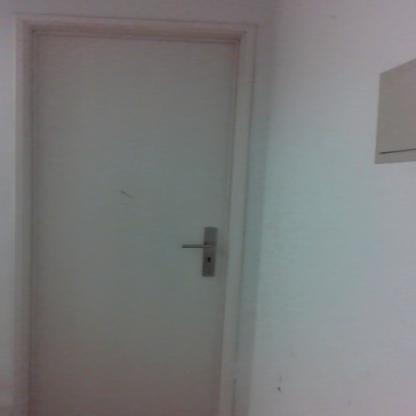door: (27, 38, 230, 416)
lever: (181, 240, 219, 249)
